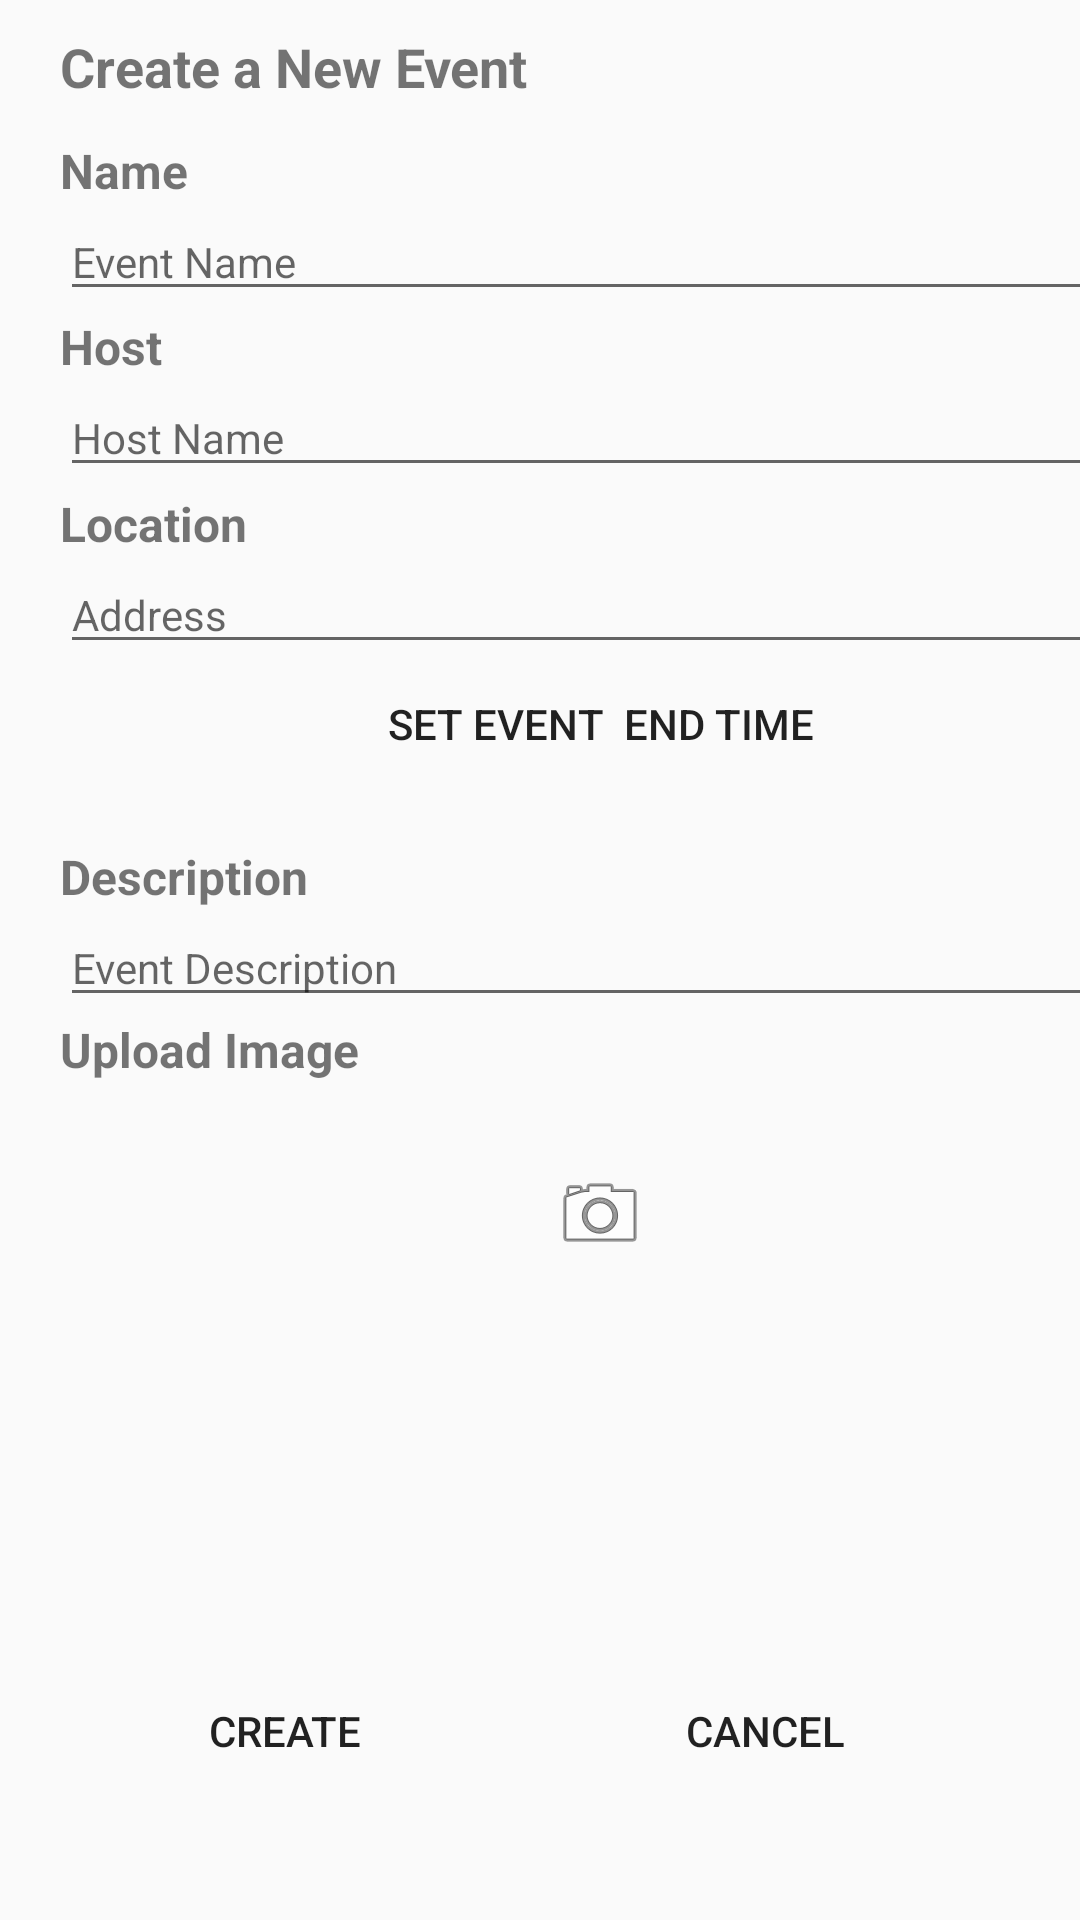

Icon bounding boxes for this 1080px x 1920px phone screenshot, format [x1=x1, y1=y1, x2=x2, y2=y2]:
camera: [x1=563, y1=1183, x2=637, y2=1242]
